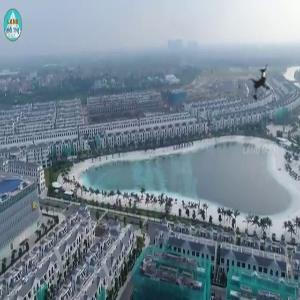drone: (230, 50, 298, 118)
